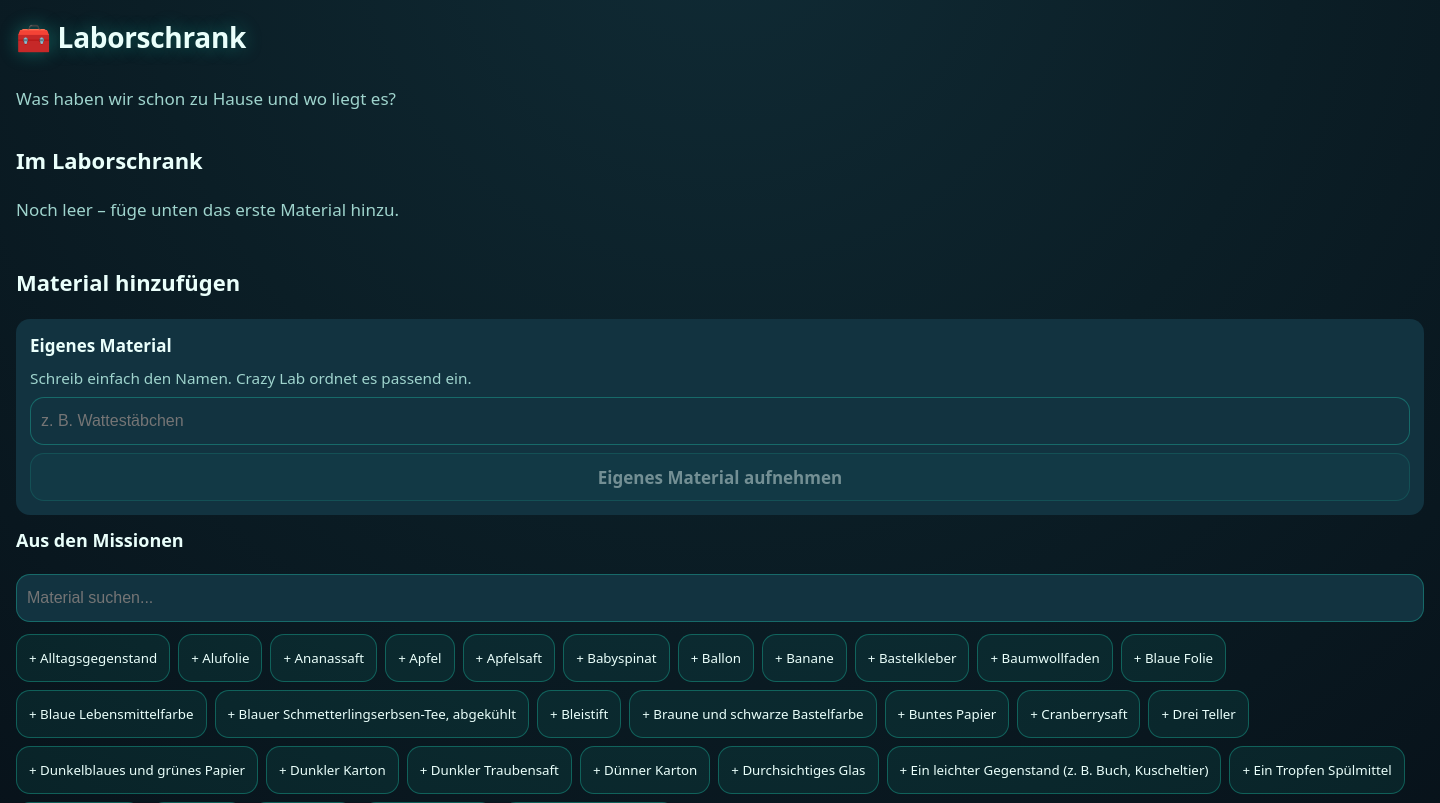
Test case: LabCabinetPage › fügt ein vorbereitetes Missionsmaterial hinzu und zeigt die Mengenwahl
This screenshot has width=1440, height=803.
Type "Vanillesirup" into the search field labelled "Material suchen". click: (720, 598)
box: [16,574,1424,622]
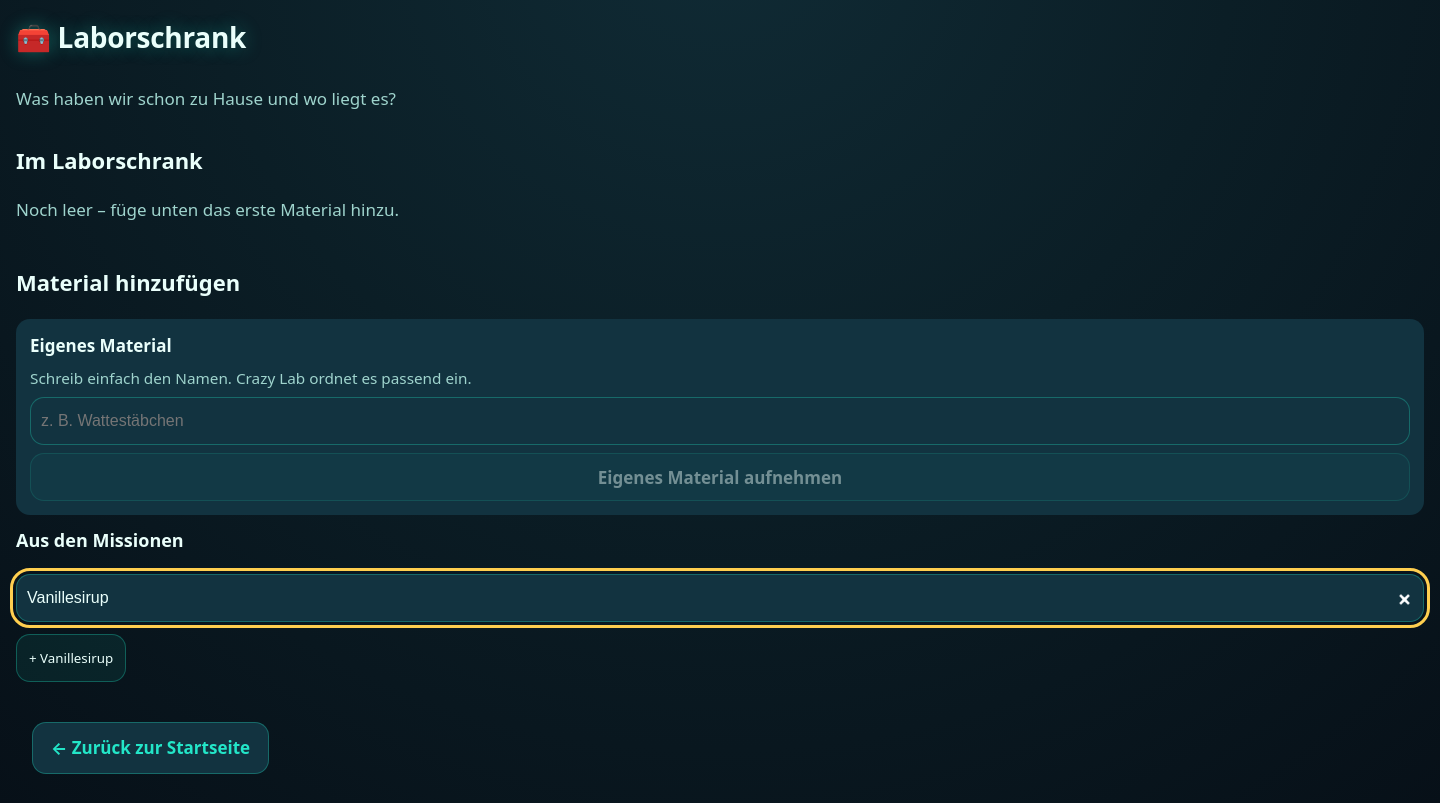
Click the button "+ Vanillesirup". click: (71, 658)
box: [16,634,126,682]
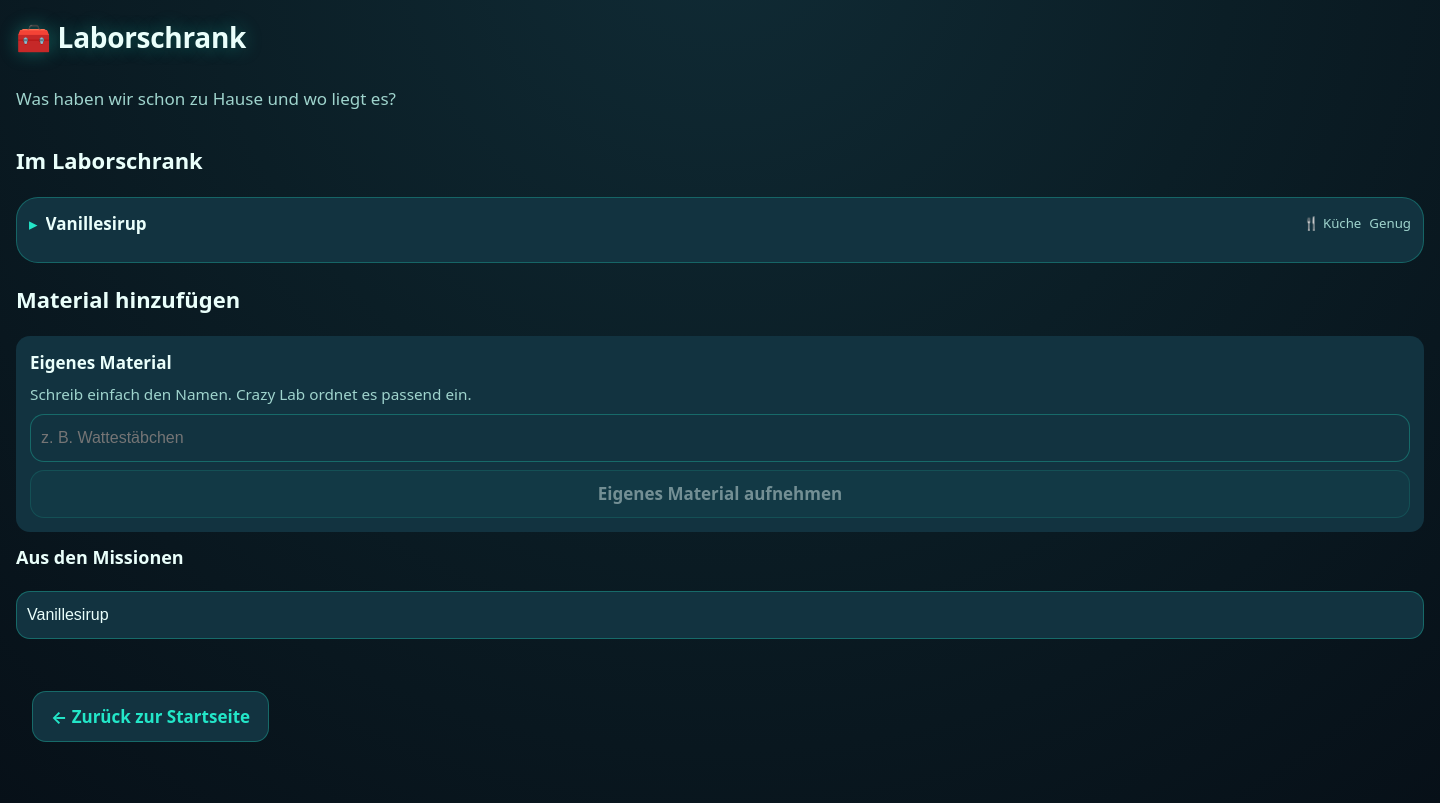
Result: the element named "Genaue Bezeichnung für Vanillesirup" is shown at [16,196,1424,262]
